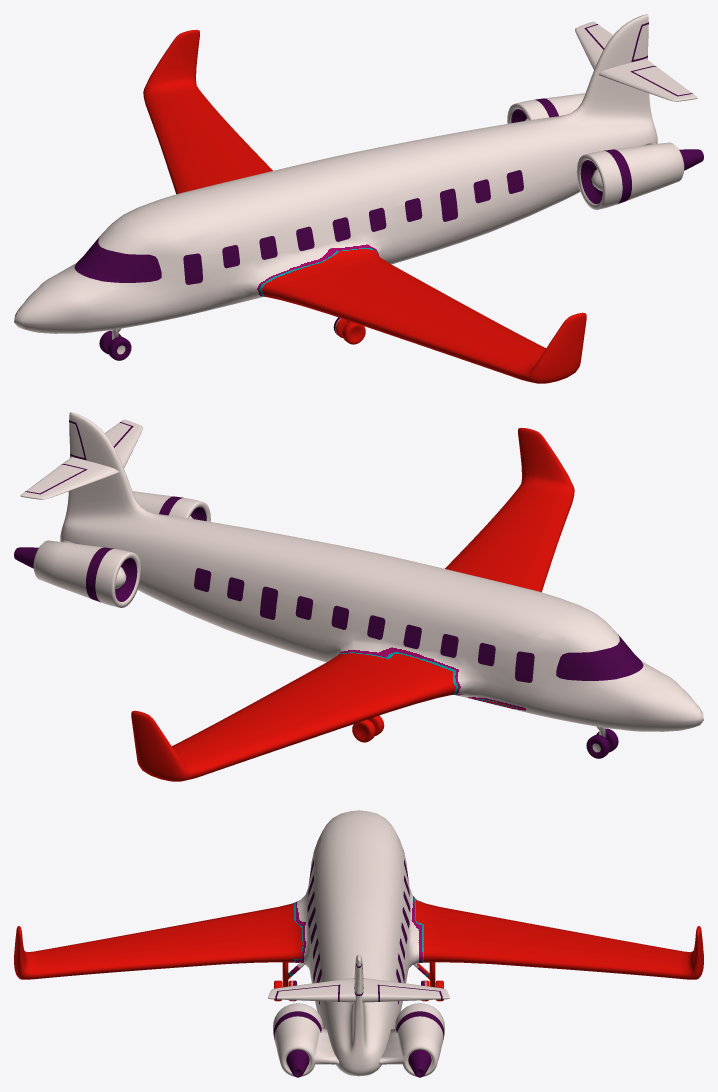
File: Pesawat2.fbx
3 views of the same model, one above another, from view 1: azimuth 30°, elevation 25°; view 2: azimuth 150°, elevation 25°; view 3: azimuth 270°, elevation 25° (orthographic). The views are drawn at different scales.
Visible parts, largest first — view 1: 18.3.Airplane; view 2: 18.3.Airplane; view 3: 18.3.Airplane.
Boxes of the visible parts, x1,y1,x2,y2 form: 18.3.Airplane: [14, 14, 703, 383]; 18.3.Airplane: [14, 412, 703, 781]; 18.3.Airplane: [14, 810, 703, 1077].
Bounding box in the file's own units: 162 × 50.34 × 169.
1 material, 1 textured.
